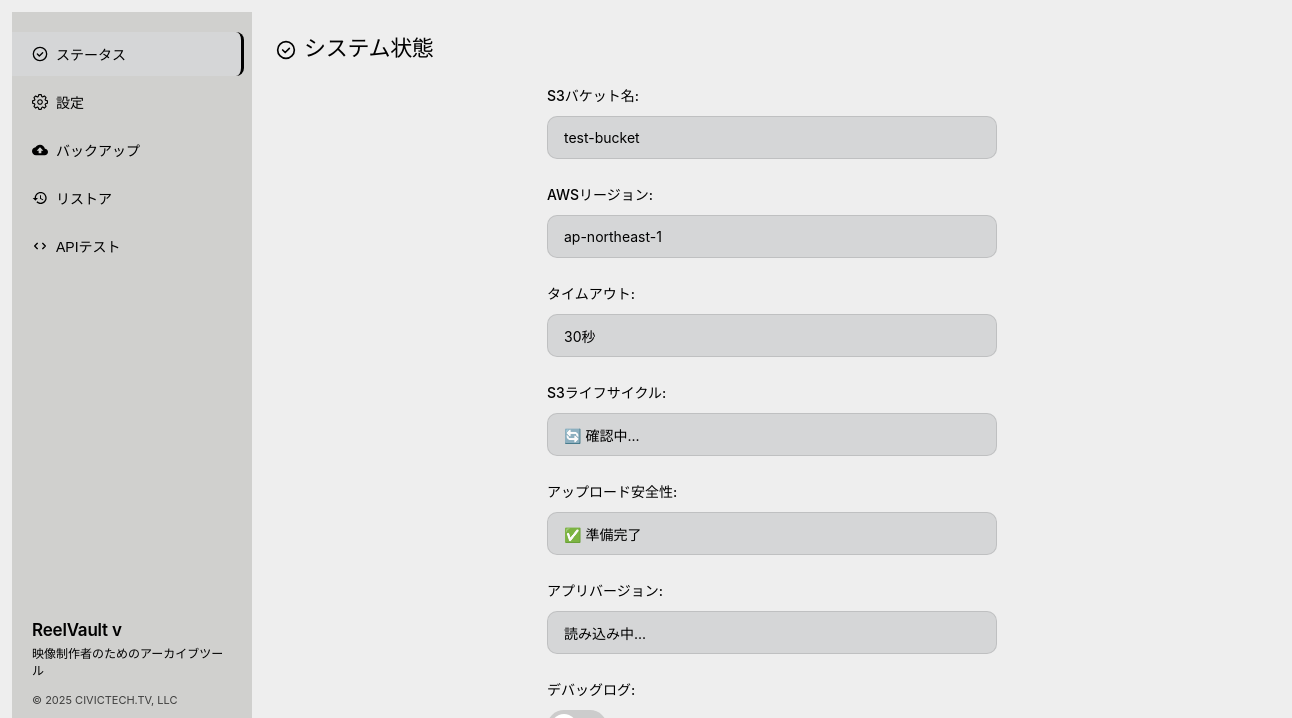
Scenario: ConfigManager › should disable auth button when credentials are empty
設定タブに切り替え
Click the button "設定" at (128, 102), box [12,80,244,124]
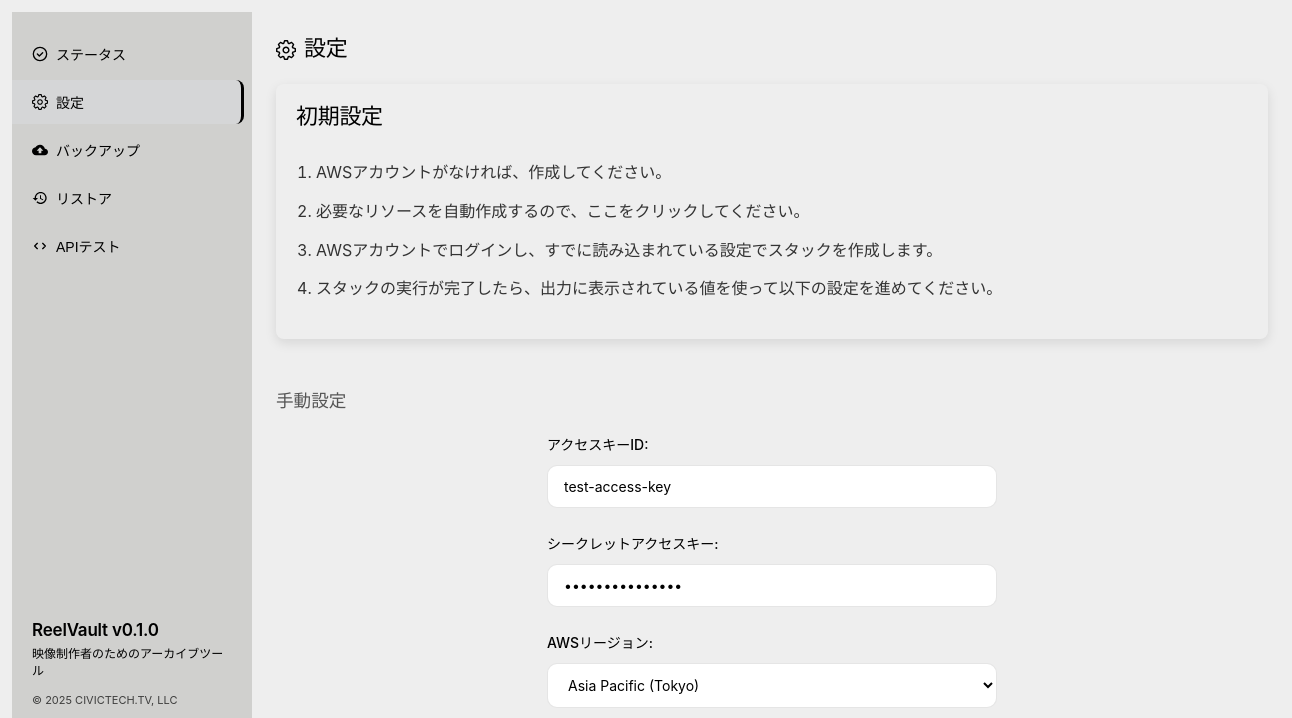
Expected: the field labelled "アクセスキーID:" is shown
Clear the field labelled "アクセスキーID:" at (772, 487), box [547,465,997,508]
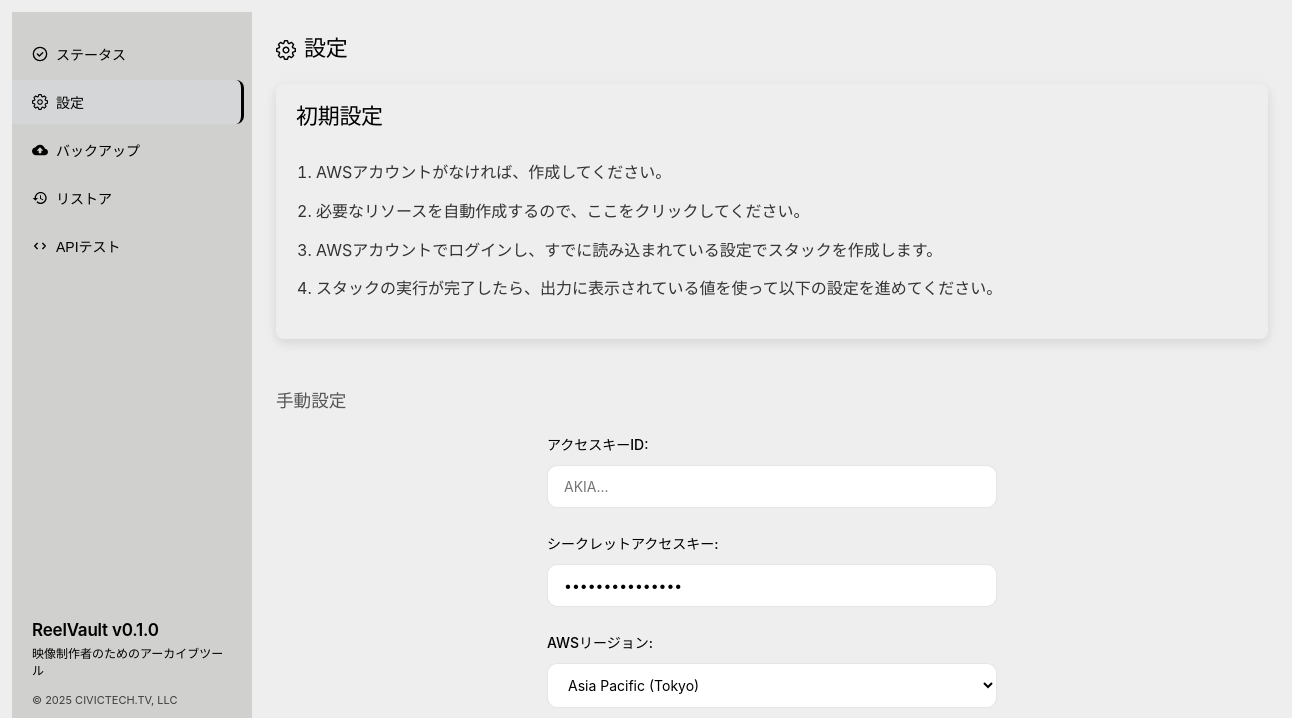
Clear the password field labelled "シークレットアクセスキー:" at (772, 586), box [547,564,997,607]
(page scrolled)
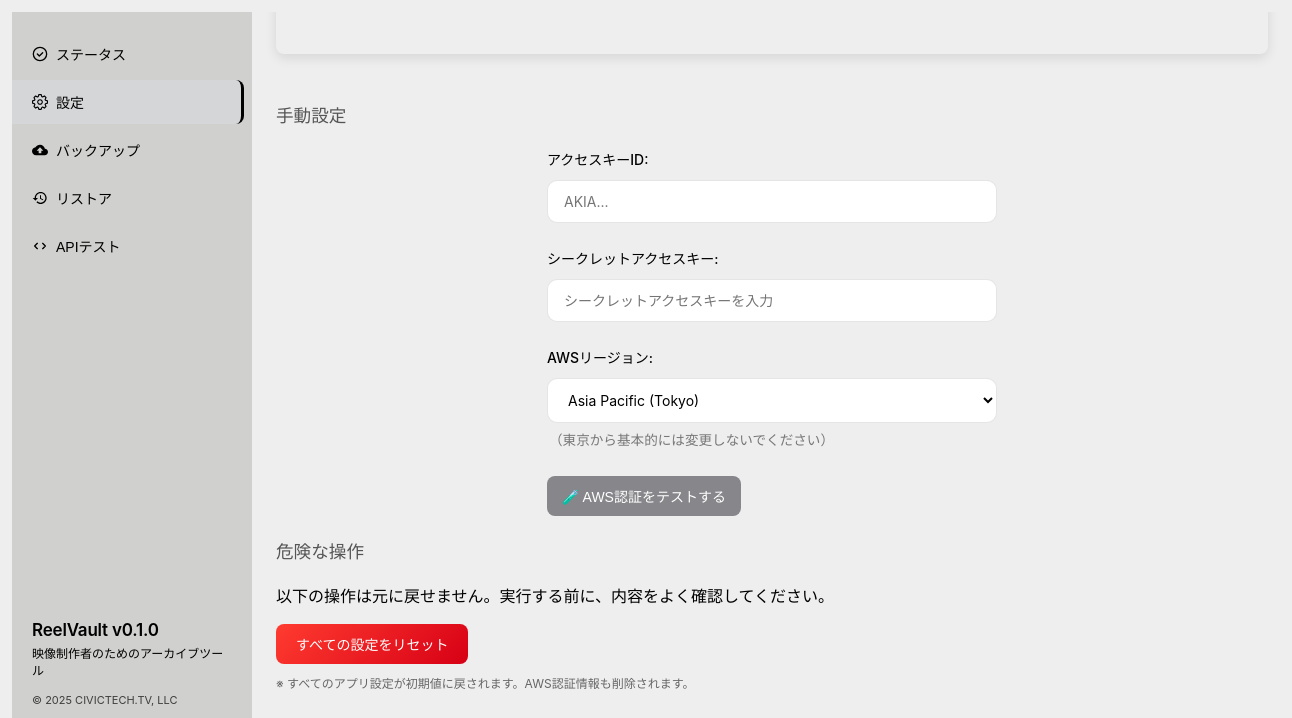
Expected: the button "🧪 AWS認証をテストする" is disabled, [547,476,741,516]
